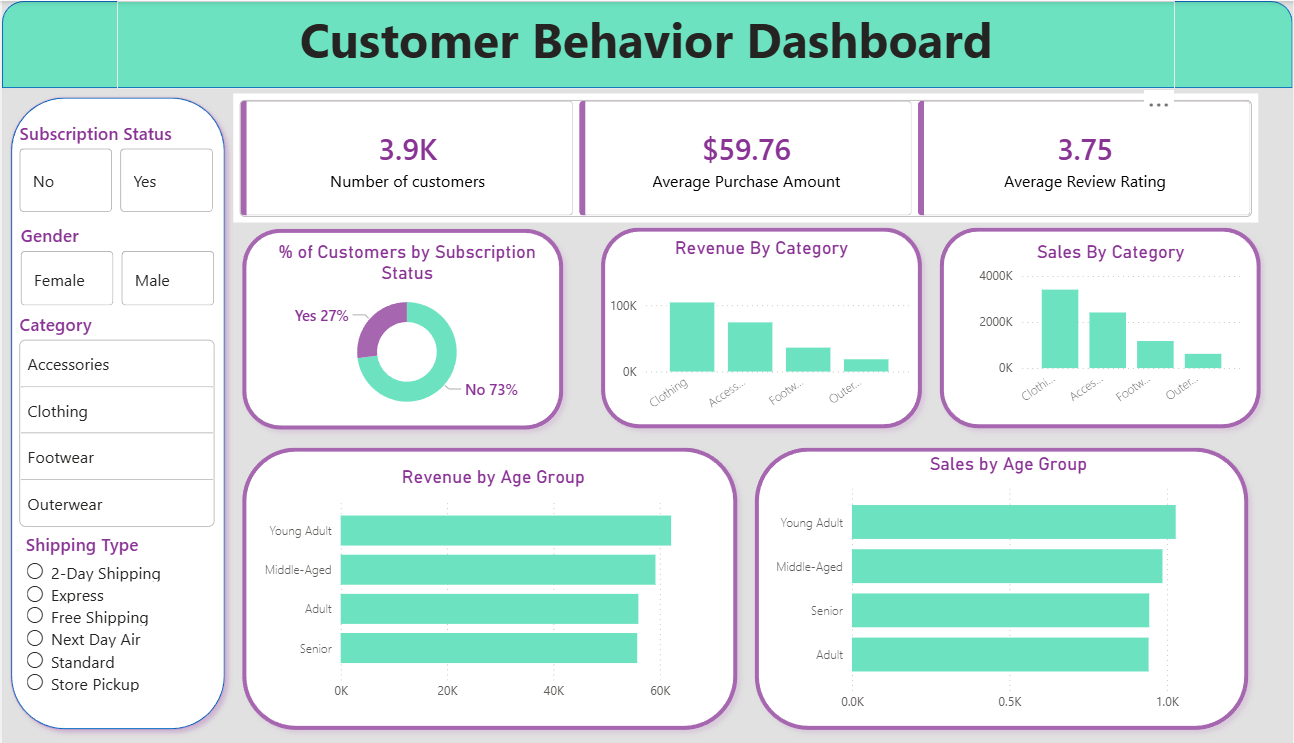

Layout of this report page (visuals, bound fields, positions):
{"tool":"powerbi","page":{"name":"Page 1","canvas":[1280,740],"ordinal":0},"visuals":[{"type":"cardVisual","fields":{"Data":["customer.Number of customers","customer.Average Purchase Amount","customer.Average Review Rating"]},"box":[229.3,91.7,1016.5,128.4],"z":0},{"type":"shape","box":[0,0,1280.3,86.4],"z":1000},{"type":"textbox","box":[113.9,0,1049.7,86.4],"z":2000},{"type":"shape","box":[229.3,217.1,336.3,217.1],"z":3000},{"type":"donutChart","title":"% of Customers by Subscription Status","fields":{"Category":["customer.subscription_status"],"Y":["CountNonNull(customer.customer_id)"]},"box":[256.8,238.5,290.4,178.8],"z":4000},{"type":"shape","box":[585.4,215.5,336.3,217.1],"z":5000},{"type":"shape","box":[921.7,215.5,336.3,217.1],"z":6000},{"type":"columnChart","title":"Revenue By Category","fields":{"Category":["customer.category"],"Y":["Sum(customer.purchase_amount)"]},"box":[597.7,233.9,311.8,183.4],"z":7000},{"type":"columnChart","title":"Sales By Category","fields":{"Category":["customer.category"],"Y":["Sum(customer.customer_id)"]},"box":[964.5,238.5,270.6,174.3],"z":8000},{"type":"shape","box":[0,86.4,230,644.5],"z":9000},{"type":"advancedSlicerVisual","title":"Subscription Status","fields":{"Values":["customer.subscription_status"]},"box":[12.2,119.2,203.3,96.3],"z":10000},{"type":"advancedSlicerVisual","title":"Gender","fields":{"Values":["customer.gender"]},"box":[13.8,220.1,203.3,87.1],"z":11000},{"type":"advancedSlicerVisual","title":"Category","fields":{"Values":["customer.category"]},"box":[12.2,308.8,203.3,218.6],"z":12000},{"type":"listSlicer","title":"Shipping Type","fields":{"Values":["customer.shipping_type"]},"box":[19,527.4,196.3,187.5],"z":13000},{"type":"shape","box":[229.3,434.1,509,298.1],"z":14000},{"type":"shape","box":[738.3,434.1,507.5,298.1],"z":15001},{"type":"barChart","title":"Revenue by Age Group","fields":{"Category":["customer.Age_Group"],"Y":["Sum(customer.purchase_amount)"]},"box":[253.7,461.6,466.2,241.5],"z":15002},{"type":"barChart","title":"Sales by Age Group","fields":{"Category":["customer.Age_Group"],"Y":["CountNonNull(customer.customer_id)"]},"box":[761.2,449.4,473.8,264.4],"z":15003}]}

Visuals, with their boxes in screenshot pixels (x1, y1, x2, y2), scaled from the page's 1280x740 canvas onto the 1294x743 screenshot:
cardVisual - customer.Number of customers x customer.Average Purchase Amount: rect(232, 92, 1259, 221)
shape: rect(0, 0, 1293, 87)
textbox: rect(115, 0, 1176, 87)
shape: rect(232, 218, 572, 436)
"% of Customers by Subscription Status" donutChart: rect(260, 239, 553, 419)
shape: rect(592, 216, 932, 434)
shape: rect(932, 216, 1272, 434)
"Revenue By Category" columnChart: rect(604, 235, 919, 419)
"Sales By Category" columnChart: rect(975, 239, 1249, 414)
shape: rect(0, 87, 233, 734)
"Subscription Status" advancedSlicerVisual: rect(12, 120, 218, 216)
"Gender" advancedSlicerVisual: rect(14, 221, 219, 308)
"Category" advancedSlicerVisual: rect(12, 310, 218, 530)
"Shipping Type" listSlicer: rect(19, 530, 218, 718)
shape: rect(232, 436, 746, 735)
shape: rect(746, 436, 1259, 735)
"Revenue by Age Group" barChart: rect(256, 463, 728, 706)
"Sales by Age Group" barChart: rect(770, 451, 1249, 717)
